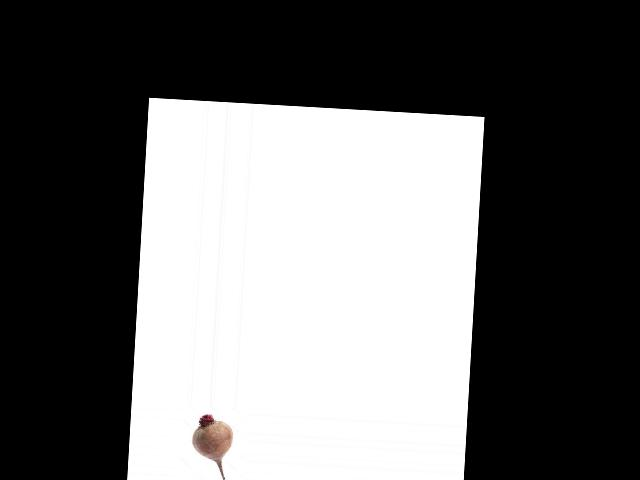beet: (188, 413, 234, 480)
